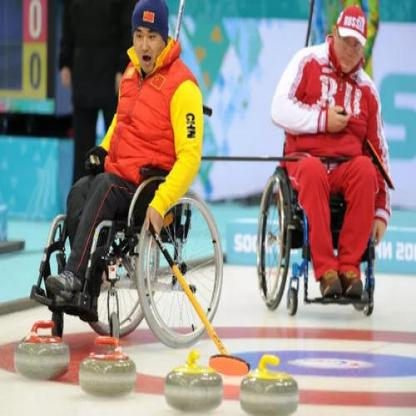wheelchair: (40, 0, 225, 343), (259, 4, 392, 321)
